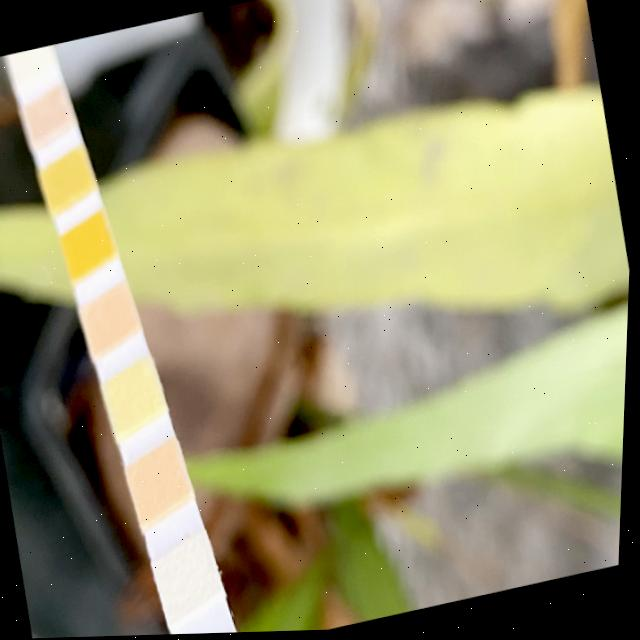Bilirubin: (10, 45, 53, 78)
Blood: (65, 227, 113, 265)
Ketone: (25, 97, 71, 130)
Nitrite: (158, 551, 224, 608)
Protein: (106, 371, 161, 418)
SpGravity: (44, 161, 91, 197)
Urobilinogen: (132, 458, 190, 508)
pH: (85, 296, 138, 340)
